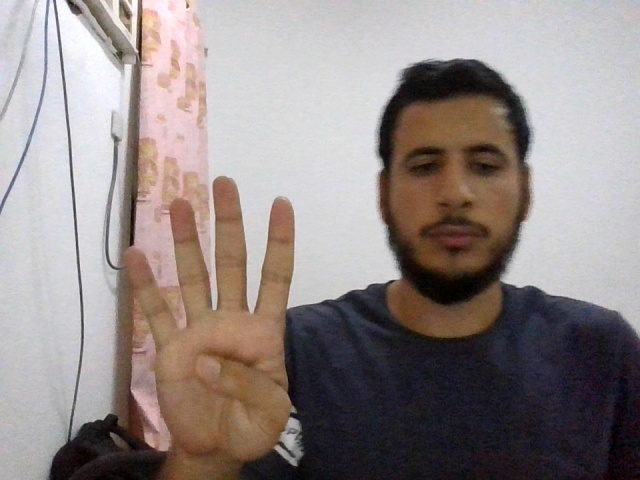Four: (124, 175, 297, 458)
